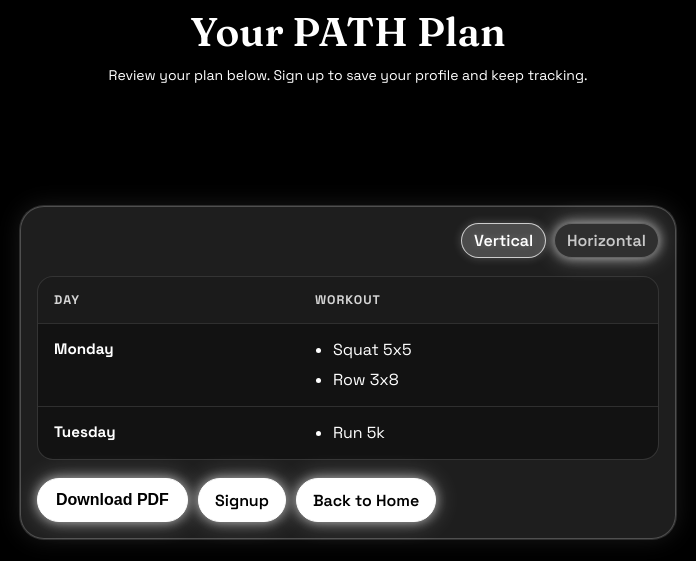
WorkoutResultPage › the horizontal layout › a day short of lines gets a dash rather than an empty cell
The image size is (696, 561).
Click the button "Horizontal".
click(606, 240)  # box [554,223,659,258]
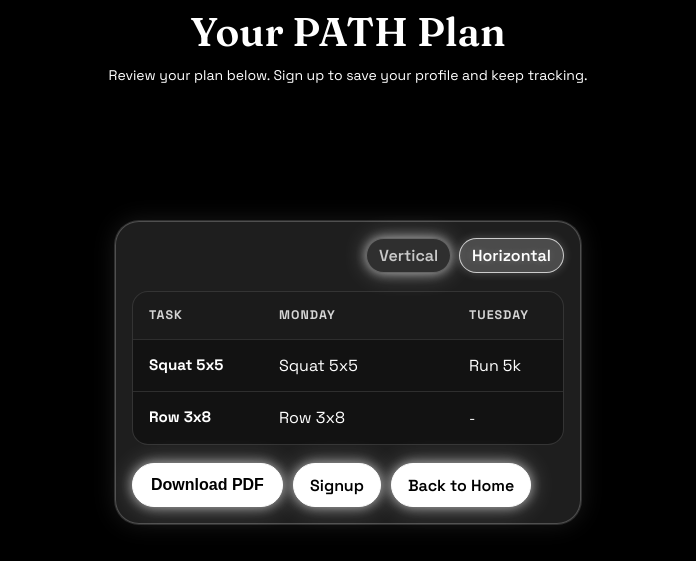
Expected: the cell "-" is shown, [469,409,475,427]
Now the cell "Row 3x8" is shown, box [263,392,453,444]
